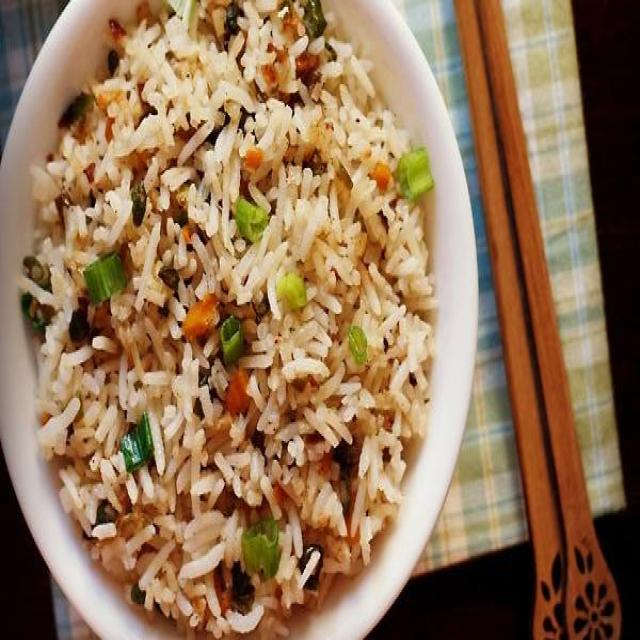Nasi Goreng: (19, 0, 438, 635)
